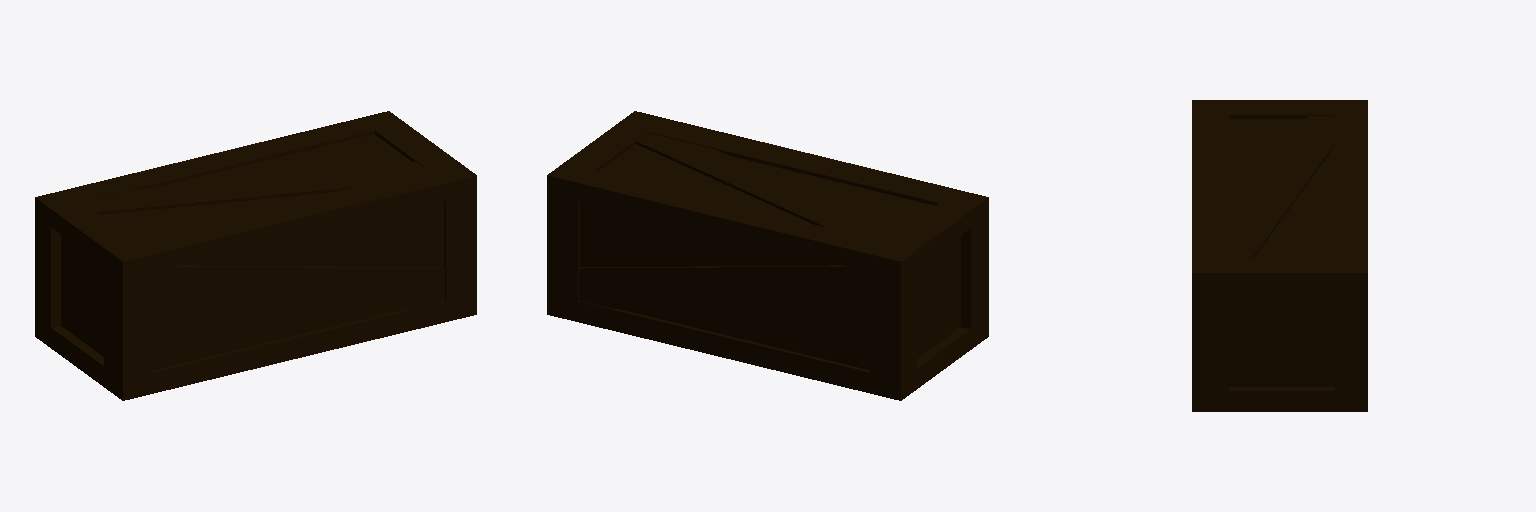
The model's file is WoodenCrate_02.obj.
3 renders of one model, left to right at view 1: azimuth 30°, elevation 25°; view 2: azimuth 150°, elevation 25°; view 3: azimuth 270°, elevation 25°, orthographic.
Visible parts, largest first — view 1: WoodenCrate_02_Cube; view 2: WoodenCrate_02_Cube; view 3: WoodenCrate_02_Cube.
Part boxes in pixels (bbox=[...]): WoodenCrate_02_Cube: bbox=[35, 111, 476, 400]; WoodenCrate_02_Cube: bbox=[547, 111, 988, 400]; WoodenCrate_02_Cube: bbox=[1192, 100, 1367, 411].
Bounding box in the file's own units: 3.17 × 1.19 × 1.37.